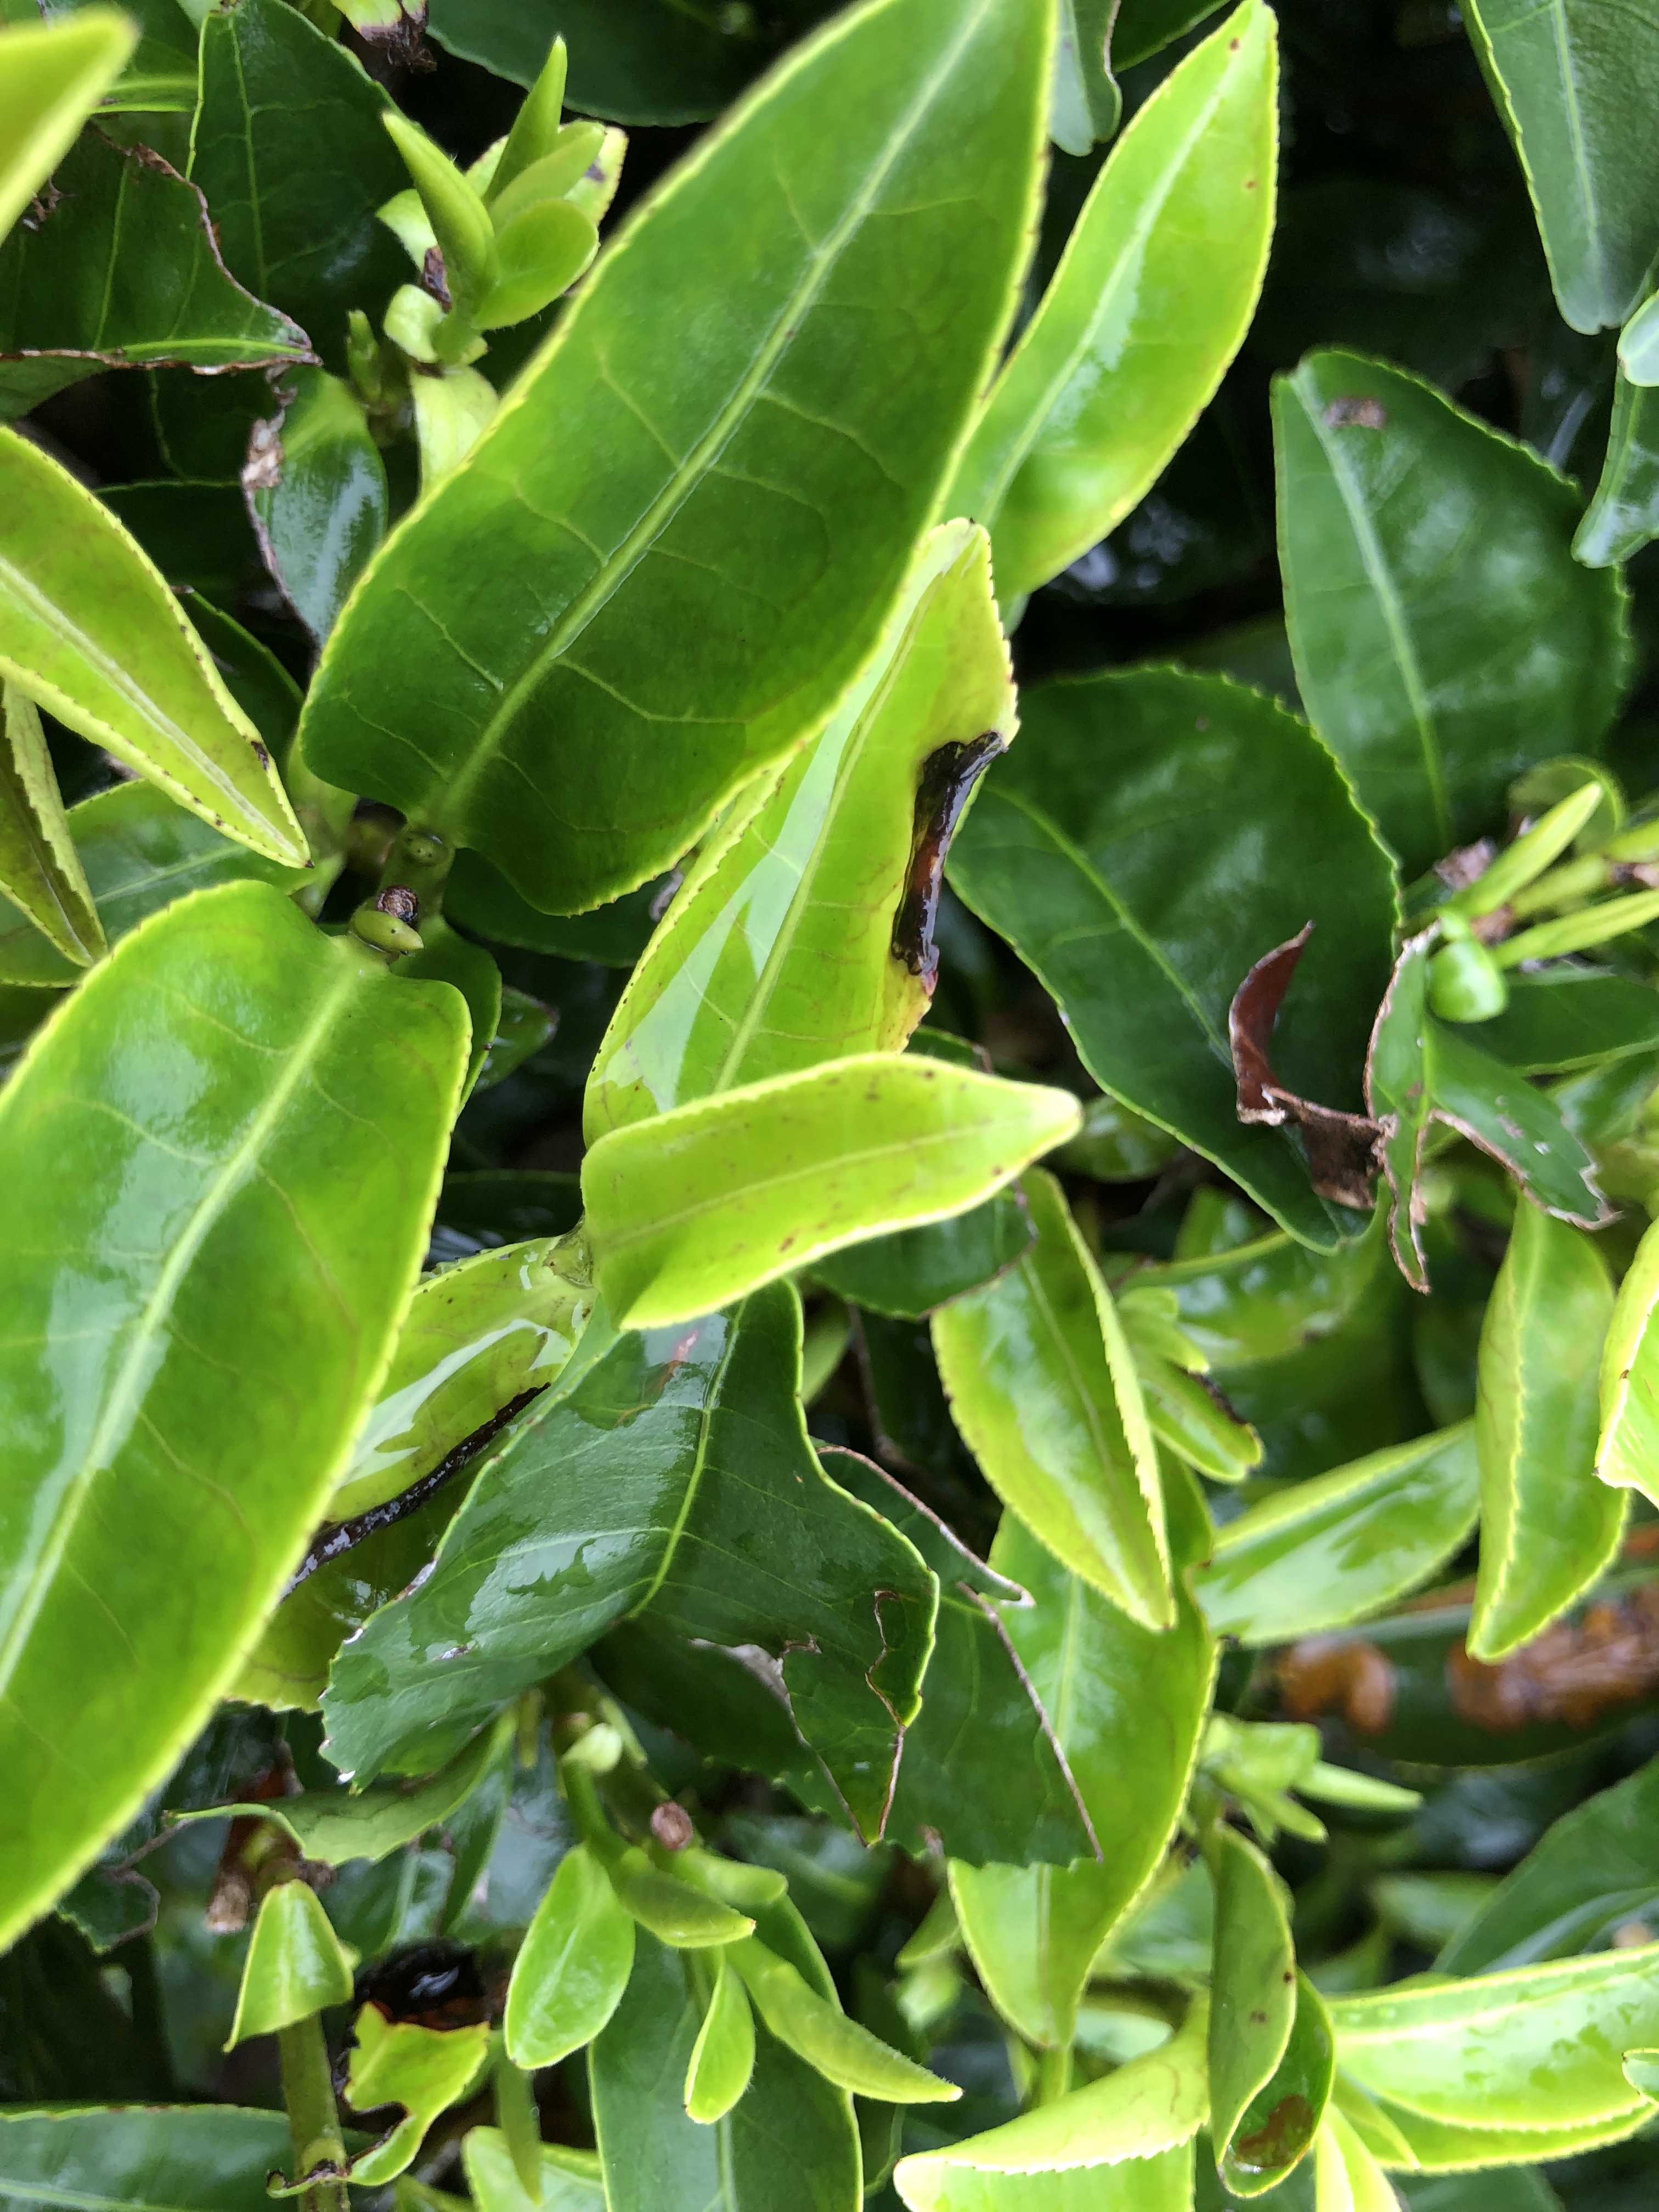formosa: (579, 1042, 1080, 1336)
fungi_early: (579, 1049, 1066, 1346)
